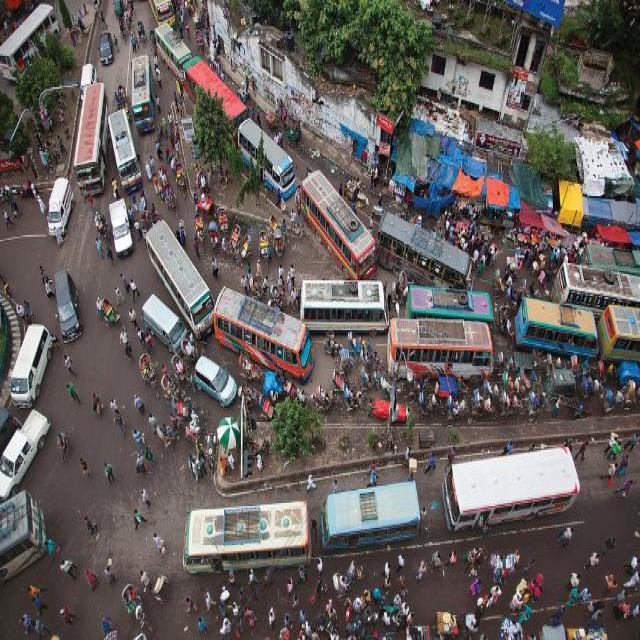Bus: (441, 442, 580, 533), (211, 285, 314, 383), (182, 497, 311, 573), (298, 168, 377, 279), (144, 216, 214, 340), (236, 117, 296, 201), (0, 2, 59, 82)
